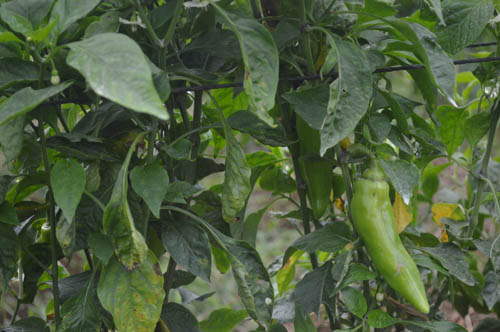ChiliPepper: (351, 179, 432, 314), (293, 118, 334, 219)
